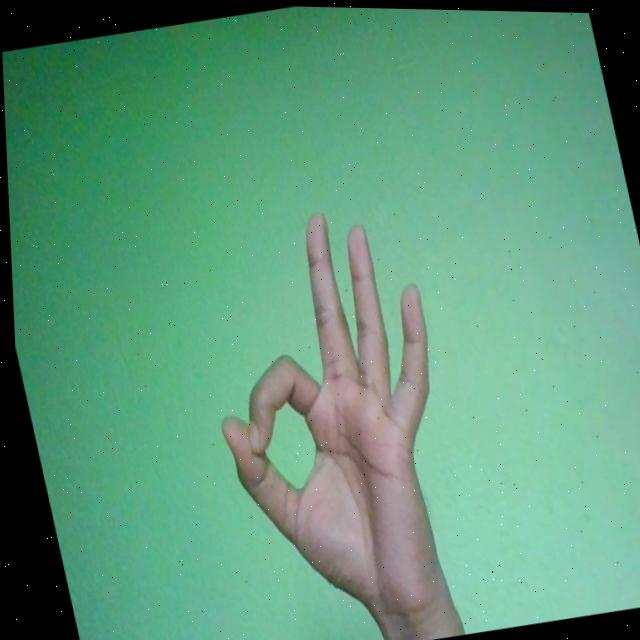Ok: (173, 193, 488, 640)
